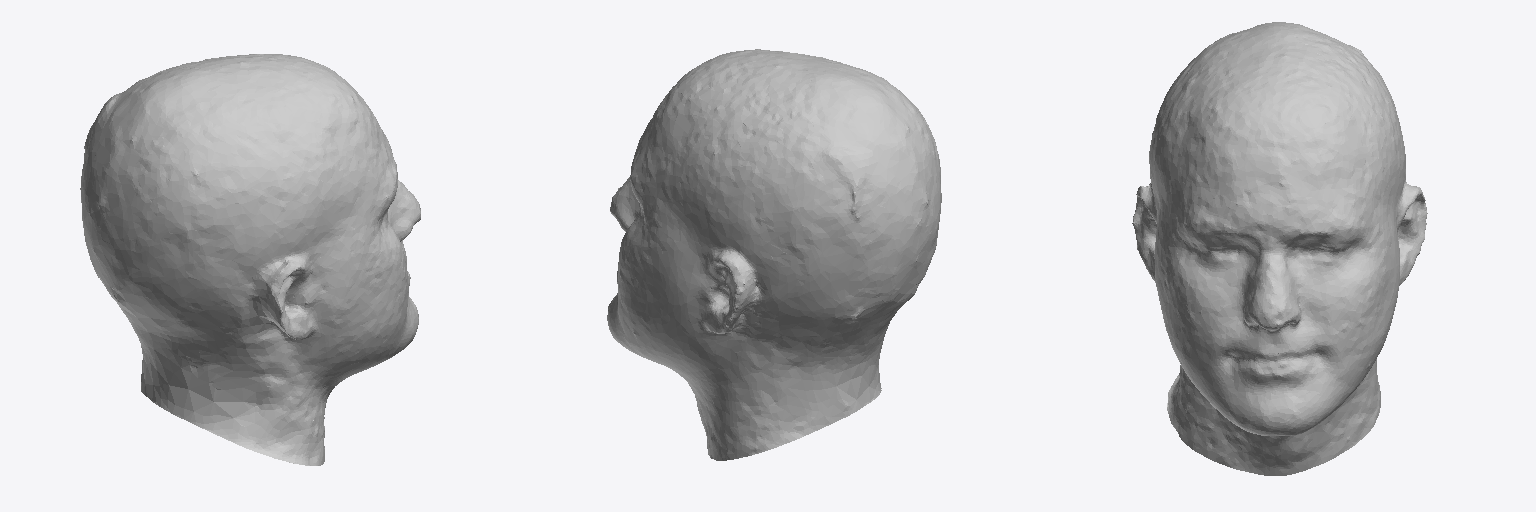
The model's file is liam2.obj.
3 renders of one model, left to right at view 1: azimuth 30°, elevation 25°; view 2: azimuth 150°, elevation 25°; view 3: azimuth 270°, elevation 25°, orthographic.
Parts seen in each view (by area): view 1: Scaniverse_2023_04_25_235810; view 2: Scaniverse_2023_04_25_235810; view 3: Scaniverse_2023_04_25_235810.
Boxes of the visible parts, x1,y1,x2,y2 form: Scaniverse_2023_04_25_235810: [80, 54, 420, 465]; Scaniverse_2023_04_25_235810: [607, 49, 941, 460]; Scaniverse_2023_04_25_235810: [1132, 22, 1427, 475].
Bounding box in the file's own units: 0.2397 × 0.2819 × 0.1931.